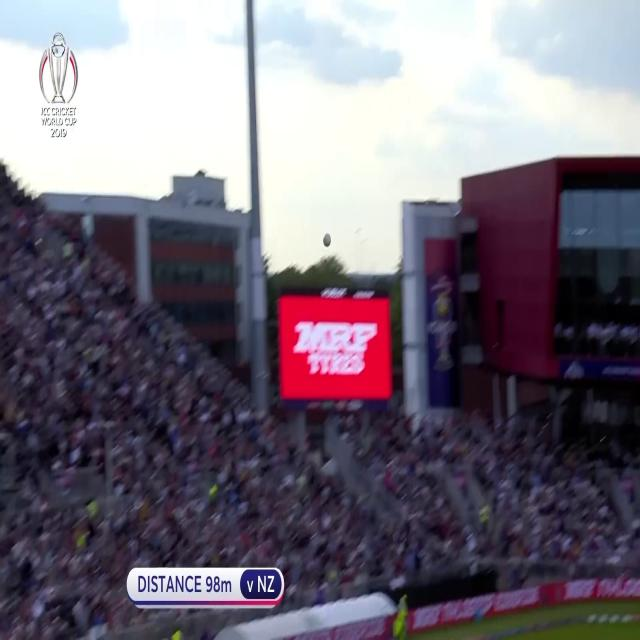ball: (323, 231, 332, 250)
